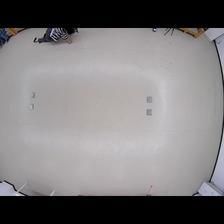fall: (30, 26, 80, 44)
